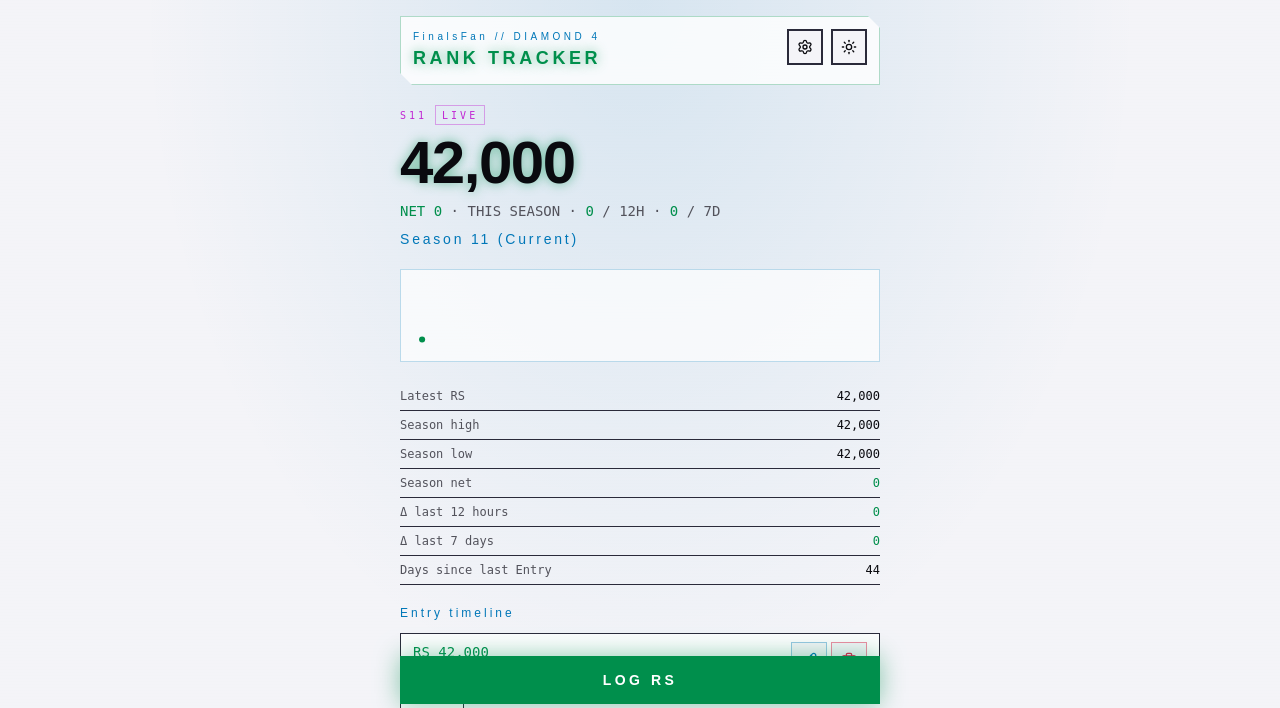
Sign out keeps Local store Entries intact
This screenshot has width=1280, height=708.
Expected: the element named "Season hero" shows "42,000", left=400, top=129, right=574, bottom=196
What coordinates should you click on to do the following:
click the button named "Data"
I would click on:
 (805, 47)
Its box is left=787, top=29, right=823, bottom=65.
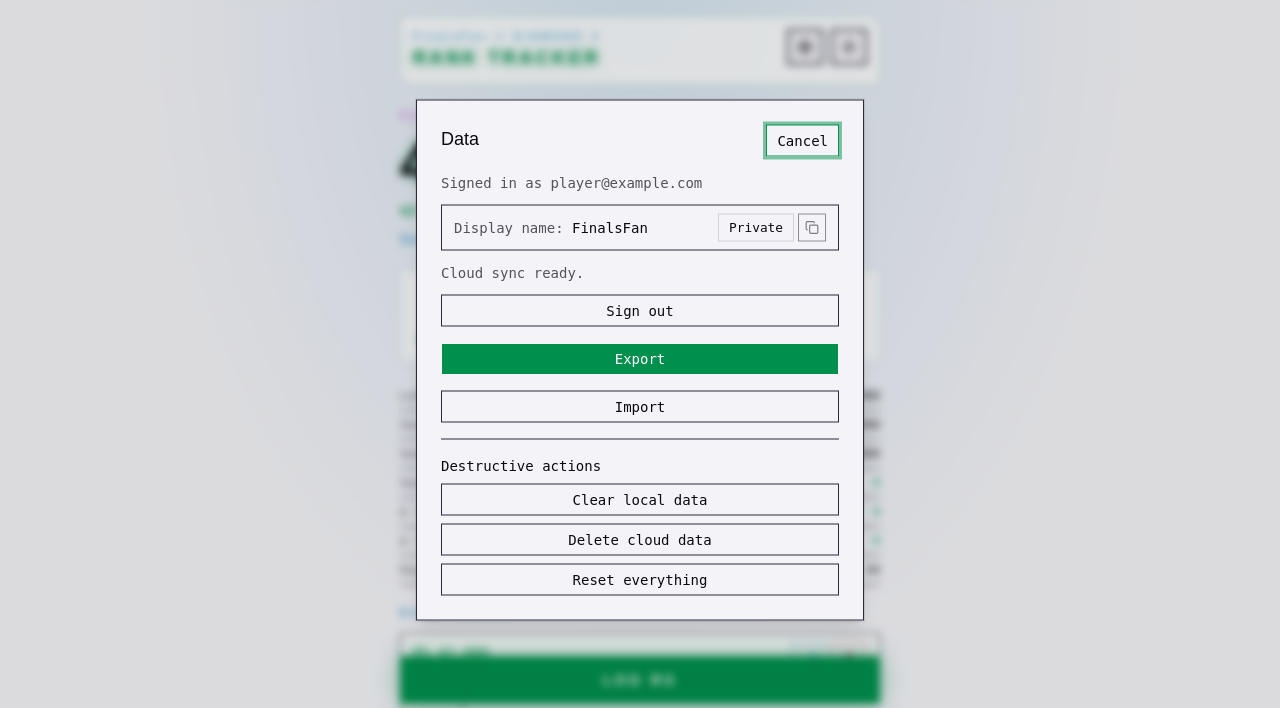
What coordinates should you click on to do the following:
click the button "Sign out"
I would click on:
 (640, 310)
Its box is left=441, top=294, right=839, bottom=326.
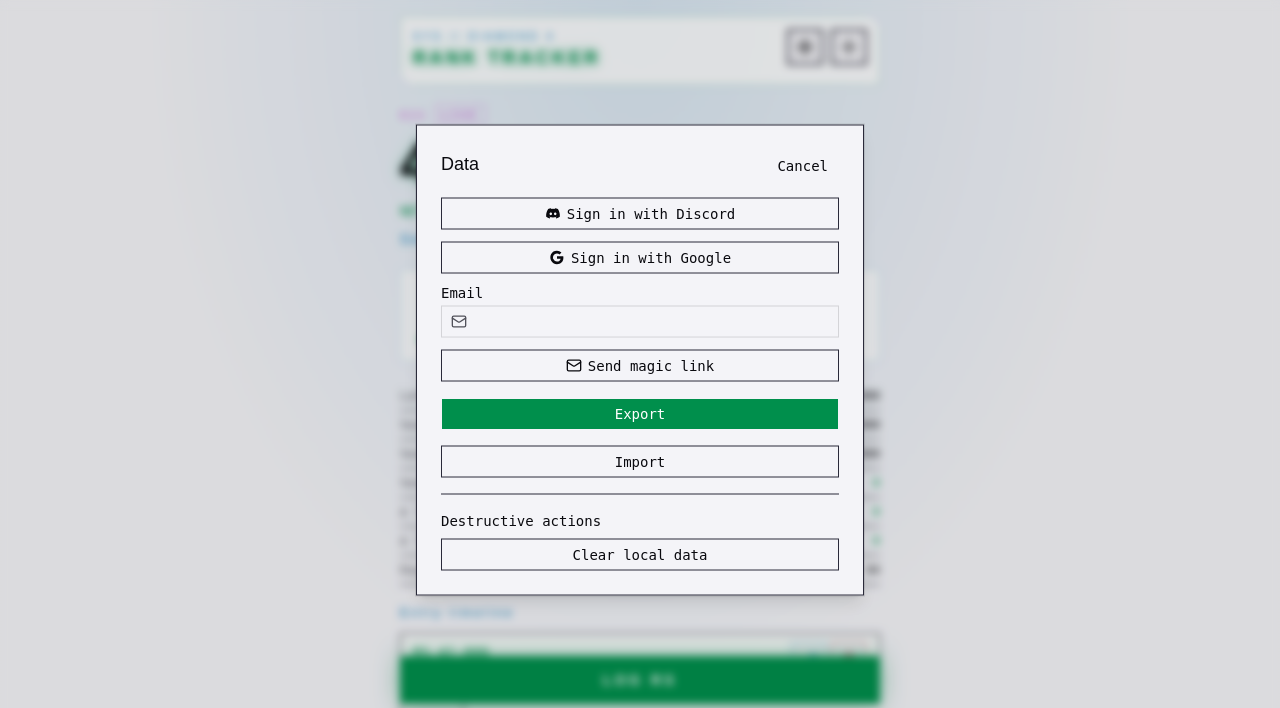
Expected: the element named "Season hero" shows "42,000", left=400, top=129, right=574, bottom=196
Expected: the button "Sign in with Discord" is shown, left=441, top=198, right=839, bottom=230
